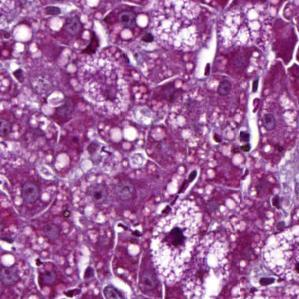ballooning: (147, 189, 208, 291), (140, 4, 217, 56)
